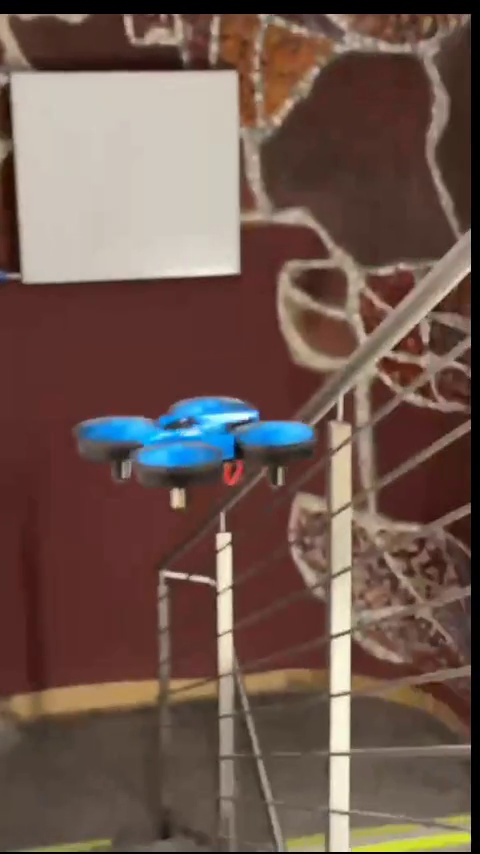drone: (71, 398, 311, 513)
